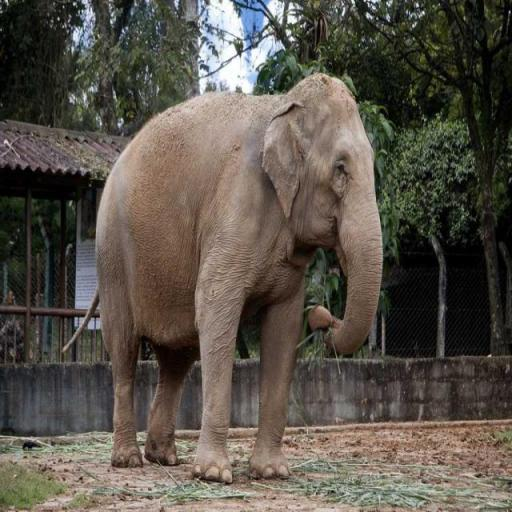Elephant: (60, 70, 384, 484)
